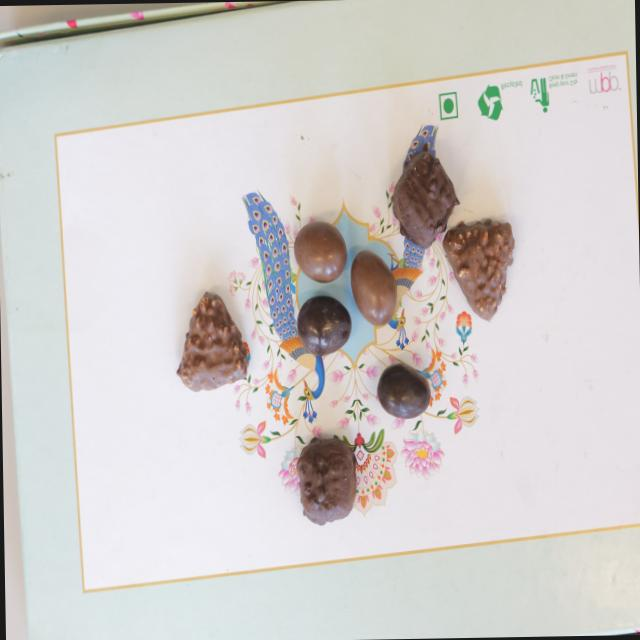Jelly_Black: (375, 361, 430, 418), (296, 296, 350, 354)
Jelly_Milk: (350, 249, 397, 327), (292, 220, 348, 284)
Tentation_noir: (392, 146, 458, 246), (296, 436, 356, 524)
Triangolo: (176, 290, 250, 392), (443, 218, 516, 320)
